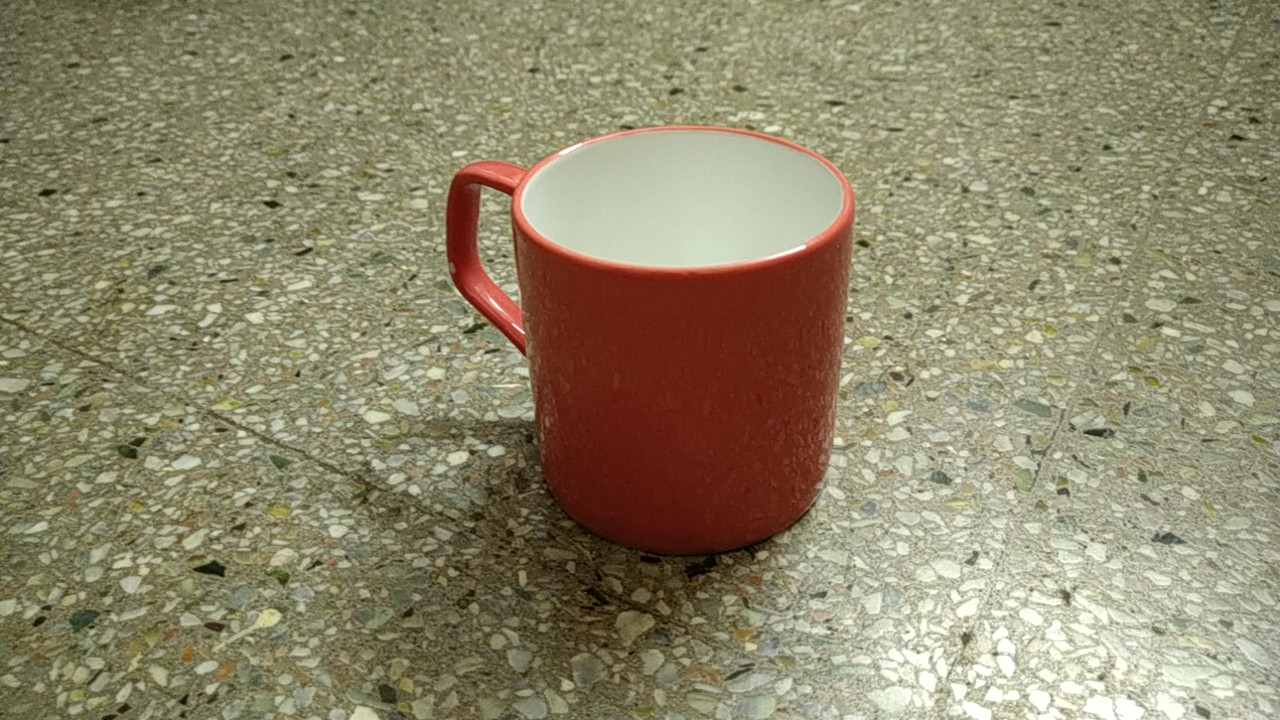cup: (434, 113, 864, 568)
